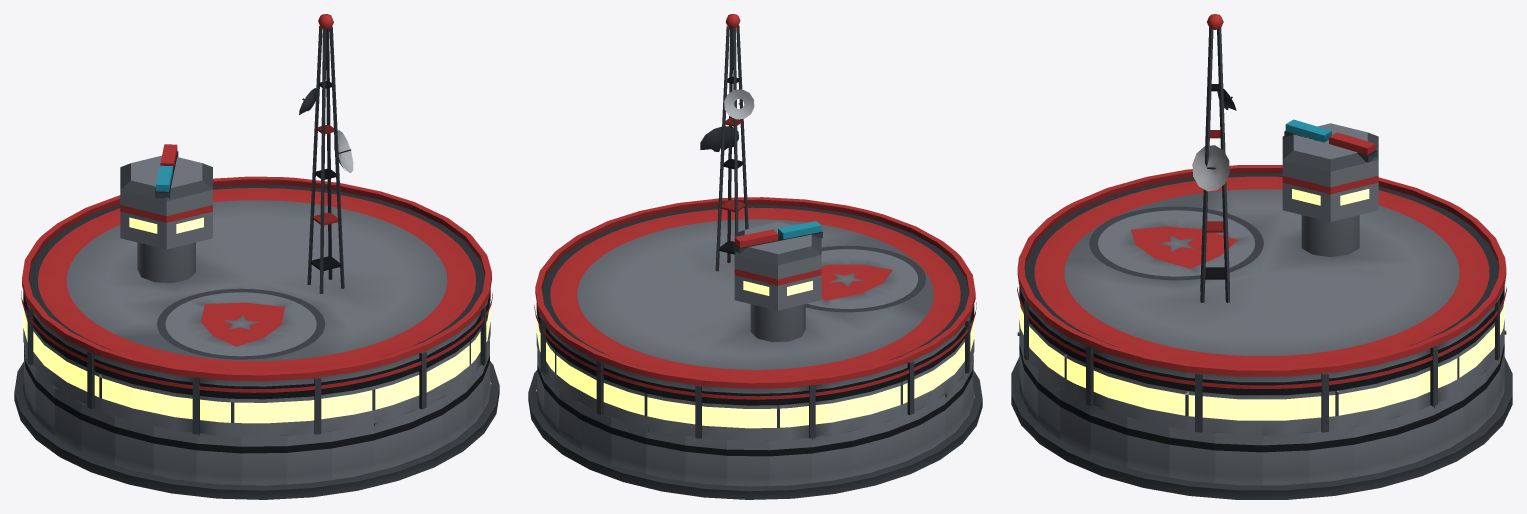
Rendered from security_office_s_far.glb.
3 views of the same model, side by side, from view 1: azimuth 30°, elevation 25°; view 2: azimuth 150°, elevation 25°; view 3: azimuth 270°, elevation 25° (orthographic). The views are drawn at different scales.
Visible parts, largest first — view 1: Roof, Base; view 2: Roof, Base; view 3: Roof, Base.
Part boxes in pixels (x1,y1,x2,y2): Roof: [21, 14, 492, 437]; Base: [14, 340, 499, 499]; Roof: [534, 14, 976, 441]; Base: [528, 350, 982, 499]; Roof: [1017, 14, 1506, 434]; Base: [1011, 330, 1512, 499].
Bounding box in the file's own units: 11.74 × 10.42 × 11.74.
